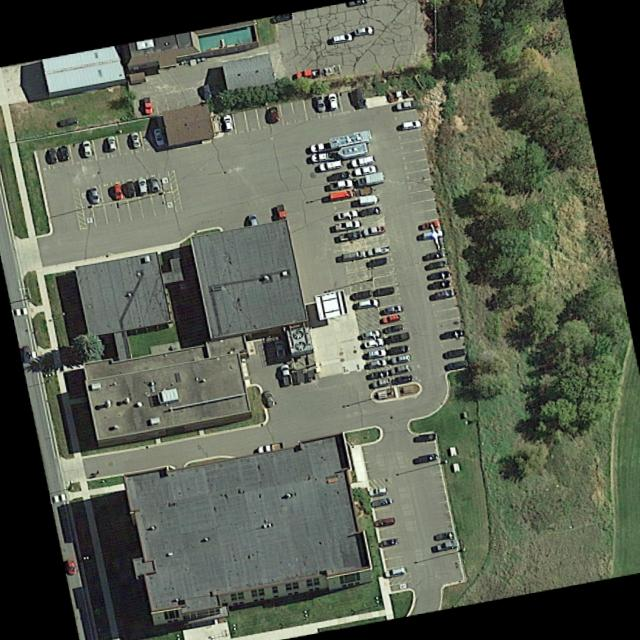small-vehicle: (291, 68, 318, 81), (256, 441, 282, 454), (334, 220, 360, 232), (350, 155, 374, 168), (384, 332, 408, 345), (418, 228, 443, 240), (54, 116, 77, 129), (353, 86, 366, 109), (260, 391, 276, 408), (245, 213, 259, 232), (341, 250, 365, 261), (318, 160, 342, 171), (338, 231, 361, 242), (367, 245, 390, 256), (362, 225, 385, 236), (353, 165, 376, 176), (326, 170, 347, 182), (280, 365, 292, 386), (357, 298, 379, 309), (384, 567, 406, 578), (436, 540, 458, 551), (370, 497, 392, 508), (389, 364, 411, 375), (444, 360, 466, 371), (396, 100, 417, 111), (373, 517, 394, 528), (444, 348, 465, 359), (329, 180, 352, 190), (433, 289, 453, 300), (20, 345, 31, 365), (392, 374, 412, 385), (142, 96, 154, 114), (351, 290, 372, 300), (368, 257, 387, 268), (353, 26, 372, 37), (389, 345, 408, 356), (129, 132, 141, 149), (122, 181, 134, 198), (337, 210, 357, 220), (401, 120, 421, 130), (332, 34, 352, 44), (383, 324, 403, 334), (363, 339, 383, 349), (391, 354, 411, 364), (274, 204, 286, 220), (268, 107, 280, 123), (420, 220, 439, 230), (430, 271, 449, 281), (369, 370, 388, 380), (417, 454, 436, 464), (314, 95, 325, 112), (222, 115, 233, 132), (327, 93, 338, 110), (359, 207, 379, 216), (425, 251, 443, 261), (432, 280, 450, 290), (361, 330, 379, 340), (443, 329, 461, 339), (81, 141, 92, 157), (375, 287, 394, 296), (382, 306, 401, 315), (381, 315, 400, 324), (153, 129, 163, 146), (89, 187, 99, 204), (428, 261, 446, 270), (435, 532, 453, 541), (368, 359, 386, 368), (371, 379, 389, 388), (201, 85, 211, 101), (107, 136, 117, 152), (137, 178, 147, 194), (66, 559, 76, 575), (379, 539, 396, 548), (368, 350, 385, 359), (368, 488, 387, 496), (113, 184, 122, 200), (58, 148, 69, 161), (48, 150, 58, 164), (150, 178, 159, 192), (418, 434, 433, 442)
